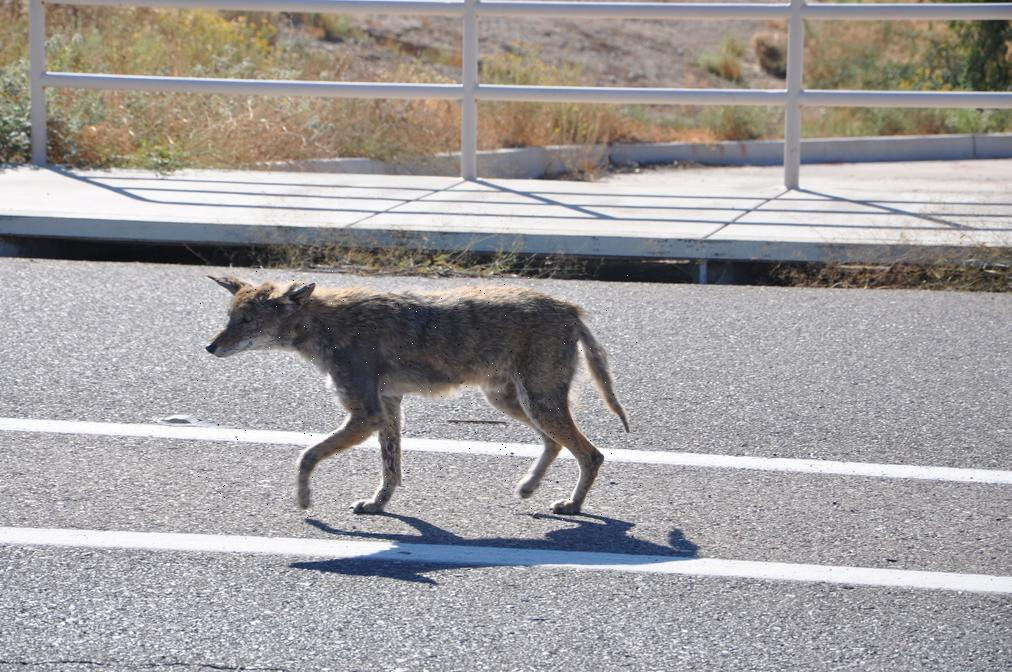Coyote: (198, 270, 646, 520)
